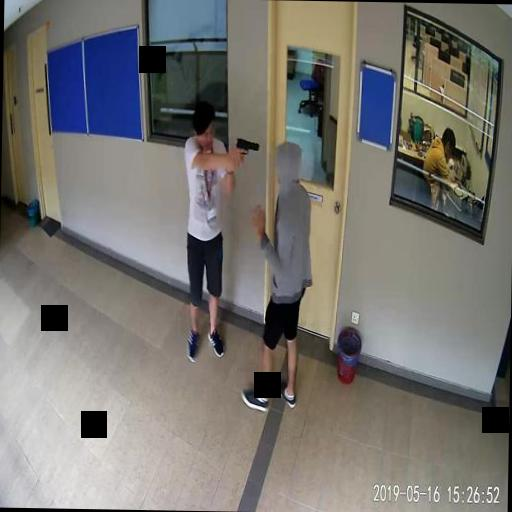Handgun: (234, 136, 258, 165)
